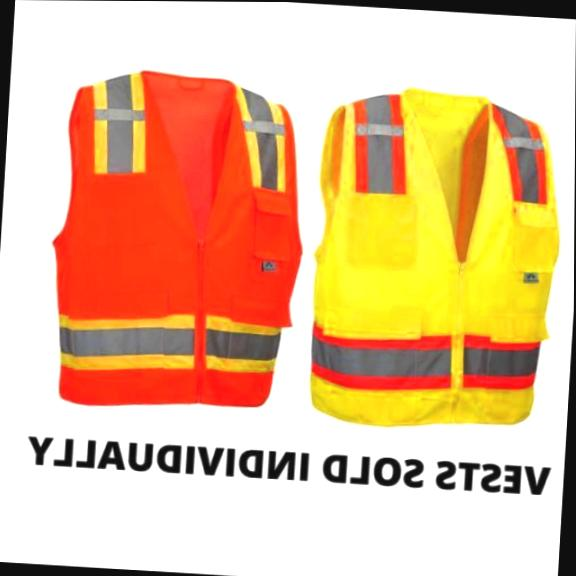safety_vest: (44, 65, 314, 420), (301, 87, 567, 432)
